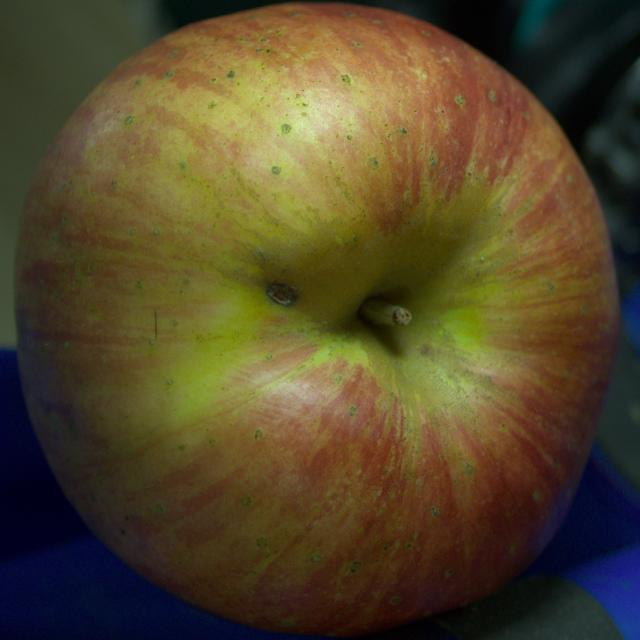apple: (16, 3, 618, 635)
pest: (266, 282, 297, 306)
